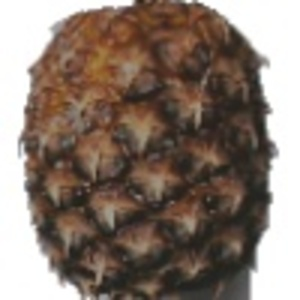abacaxi: (17, 2, 275, 295)
